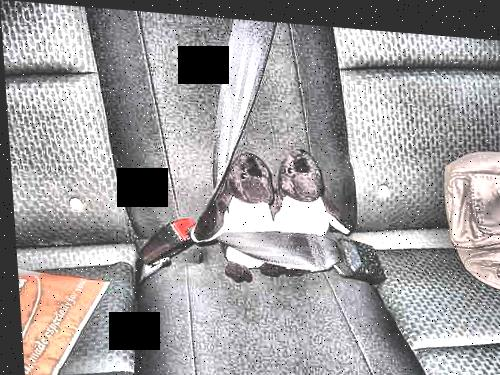seatbelt: (113, 12, 329, 301)
